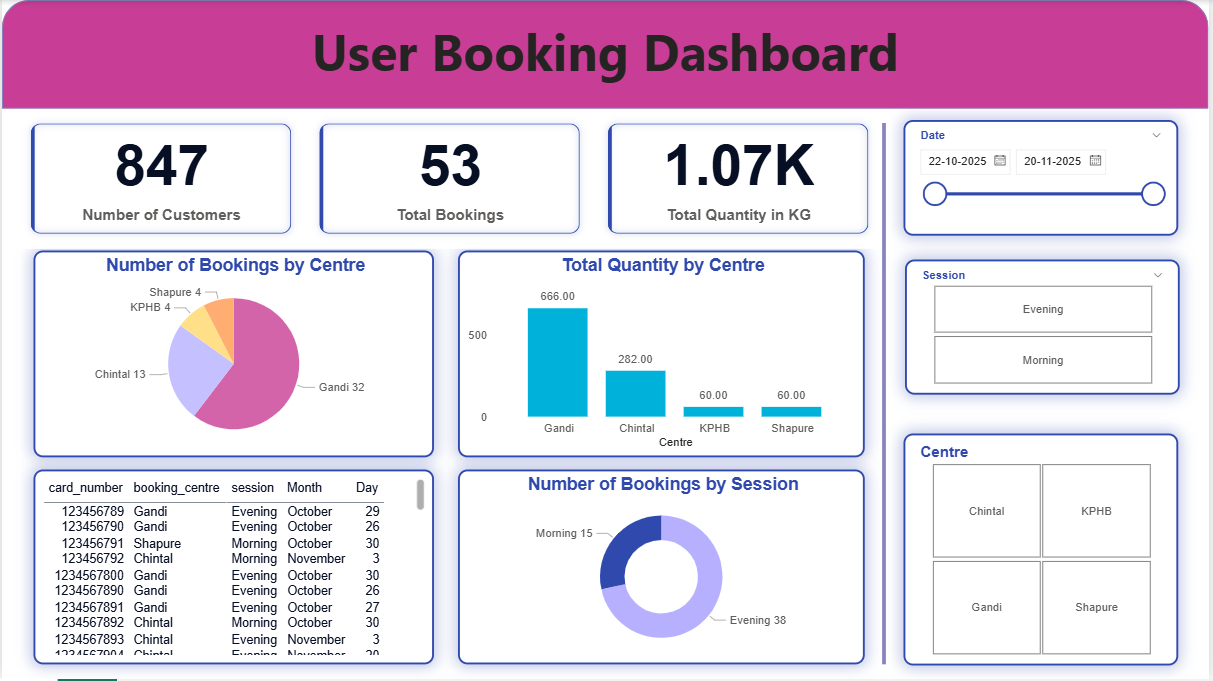

The page's visual inventory and layout, read from the dashboard file:
{"tool":"powerbi","page":{"name":"Page 1","canvas":[1280,720],"ordinal":0},"visuals":[{"type":"pieChart","title":"Number of Bookings by Centre","fields":{"Category":["booking_details.booking_centre"],"Y":["booking_details.count_of_bookings"]},"box":[33.4,265.6,424.7,219.5],"z":0},{"type":"slicer","fields":{"Values":["booking_details.date"]},"box":[956,127.2,291.1,122.5],"z":1000},{"type":"slicer","fields":{"Values":["booking_details.session"]},"box":[957.5,275.2,291.1,143.2],"z":2000},{"type":"slicer","fields":{"Values":["booking_details.booking_centre"]},"box":[956.2,459.2,291,245.7],"z":3000},{"type":"columnChart","title":"Total Quantity by Centre","fields":{"Category":["booking_details.booking_centre"],"Y":["Sum(booking_details.quantity)"]},"box":[483.5,265.6,431.1,219.5],"z":4000},{"type":"tableEx","fields":{"Values":["booking_details.card_number","booking_details.booking_centre","booking_details.session","booking_details.date.Variation.Date Hierarchy.Month","booking_details.date.Variation.Date Hierarchy.Day"]},"box":[33.4,497.9,424.7,206.8],"z":5000},{"type":"cardVisual","fields":{"Data":["ration_card_details.Total_members","booking_details.count_of_bookings","Sum(booking_details.quantity)"]},"box":[14.3,114.5,921,149.5],"z":6000},{"type":"shape","box":[0,0,1279.4,115.3],"z":7000},{"type":"textbox","box":[0,13.2,1279.4,102],"z":8000},{"type":"shape","box":[914.6,130.4,41.4,574.2],"z":9000},{"type":"donutChart","title":"Number of Bookings by Session","fields":{"Category":["booking_details.session"],"Y":["booking_details.count_of_bookings"]},"box":[483.5,497.9,431.1,206.8],"z":10000}]}

Visuals, with their boxes in screenshot pixels (x1, y1, x2, y2), scaled from the page's 1280x720 canvas onto the 1213x681 screenshot:
"Number of Bookings by Centre" pieChart: locate(32, 251, 434, 459)
slicer - booking_details.date: locate(906, 120, 1182, 236)
slicer - booking_details.session: locate(907, 260, 1183, 396)
slicer - booking_details.booking_centre: locate(906, 434, 1182, 667)
"Total Quantity by Centre" columnChart: locate(458, 251, 867, 459)
tableEx - booking_details.card_number x booking_details.booking_centre: locate(32, 471, 434, 667)
cardVisual - ration_card_details.Total_members x booking_details.count_of_bookings: locate(14, 108, 886, 250)
shape: locate(0, 0, 1212, 109)
textbox: locate(0, 12, 1212, 109)
shape: locate(867, 123, 906, 666)
"Number of Bookings by Session" donutChart: locate(458, 471, 867, 667)
